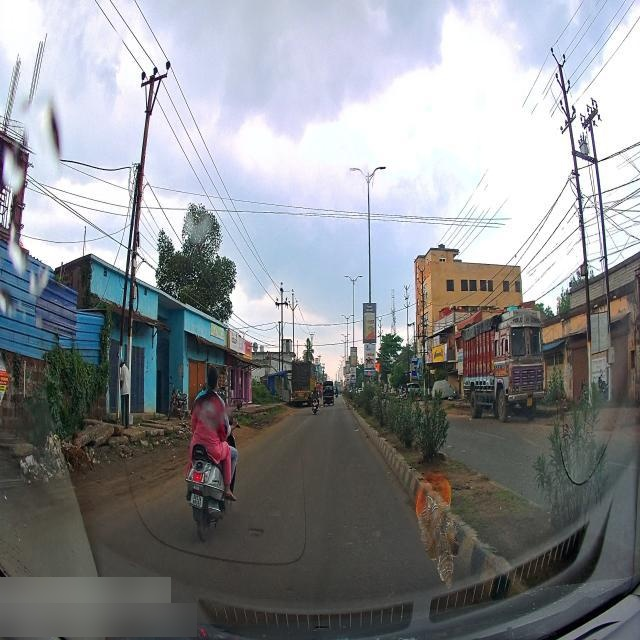pothole: (244, 518, 264, 546)
